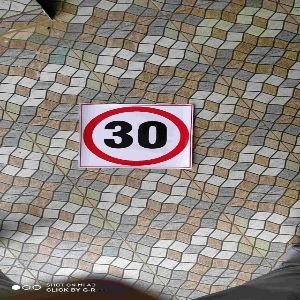speedlimit30: (81, 102, 192, 168)
